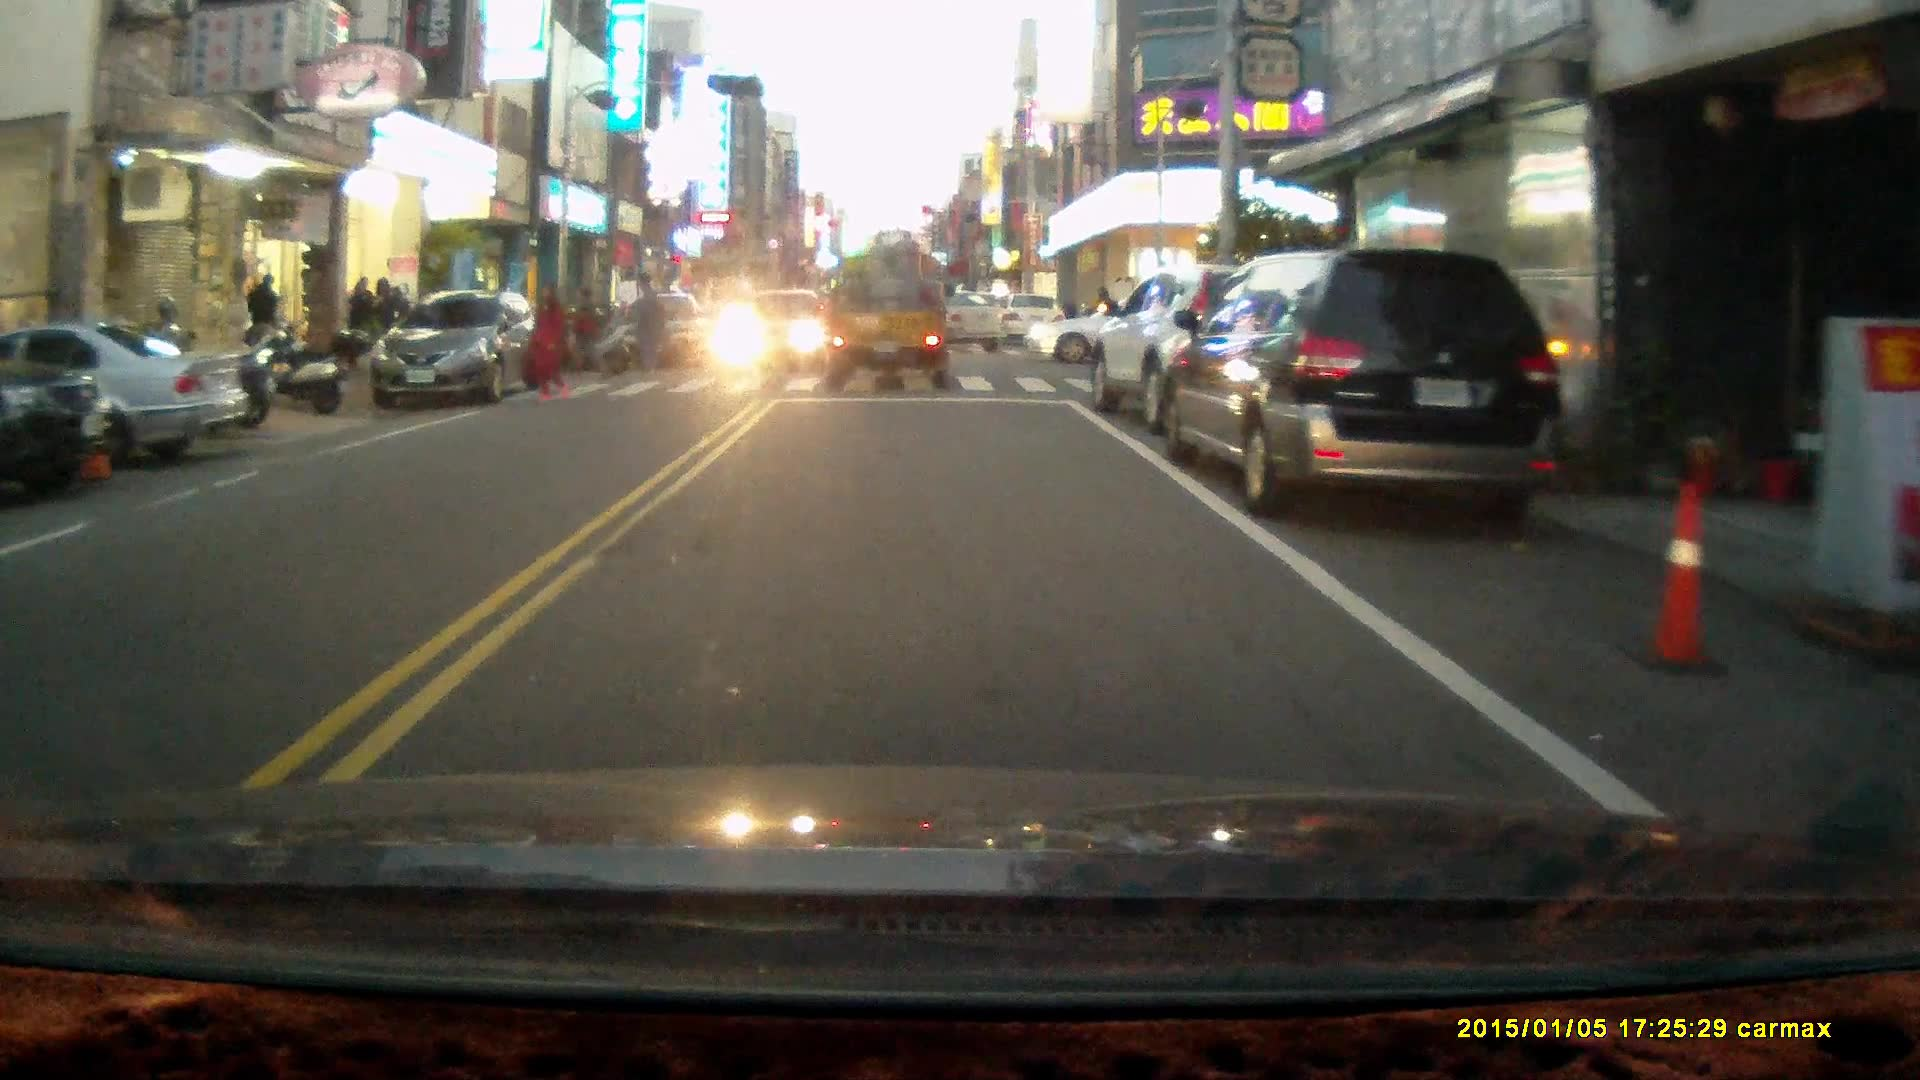pedestrian: (525, 281, 575, 408), (625, 270, 675, 373), (246, 270, 285, 366), (569, 281, 606, 374)
vehicle: (1164, 248, 1568, 529), (1084, 261, 1374, 440), (1, 319, 256, 475), (819, 229, 962, 393), (371, 291, 551, 410), (1025, 292, 1245, 370), (1, 357, 119, 484), (602, 293, 712, 374), (714, 285, 825, 364), (893, 295, 1009, 361)
